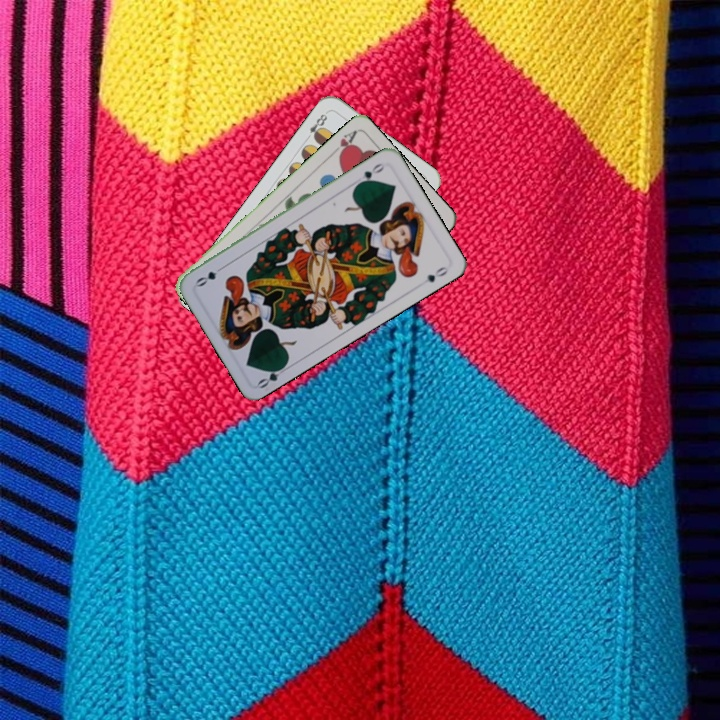E8: (302, 108, 331, 143)
GO: (254, 360, 292, 391), (353, 159, 388, 188)
HA: (326, 126, 359, 160)
